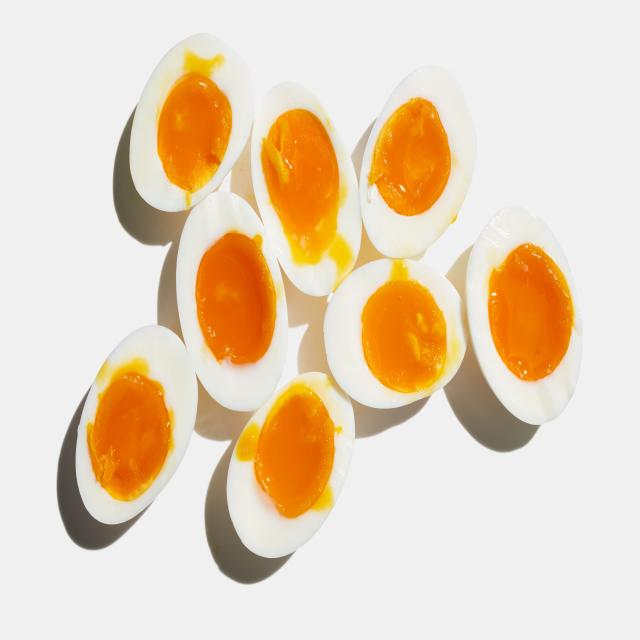eggs: (22, 79, 628, 640)
